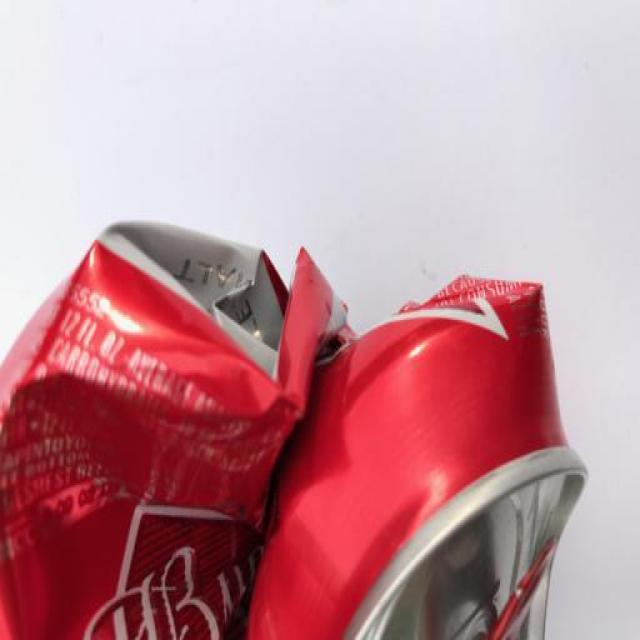metel: (4, 156, 609, 640)
